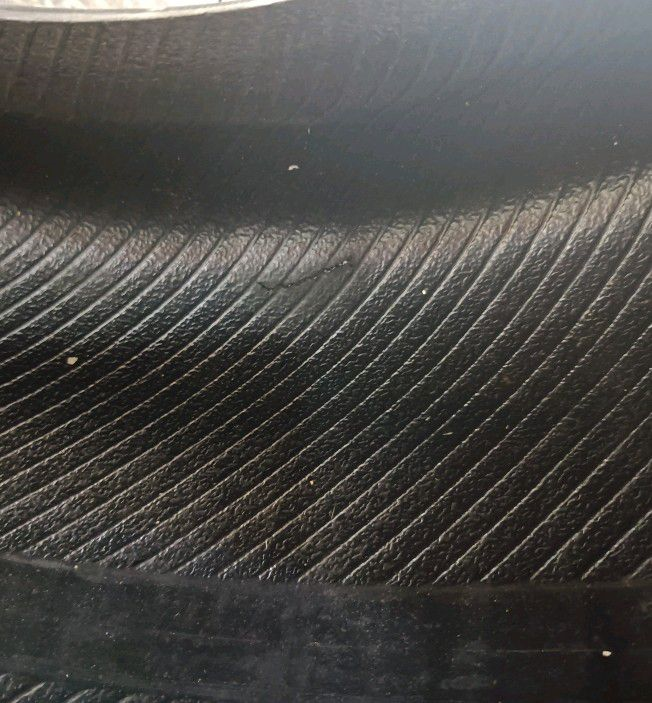CBU: (250, 252, 358, 300)
